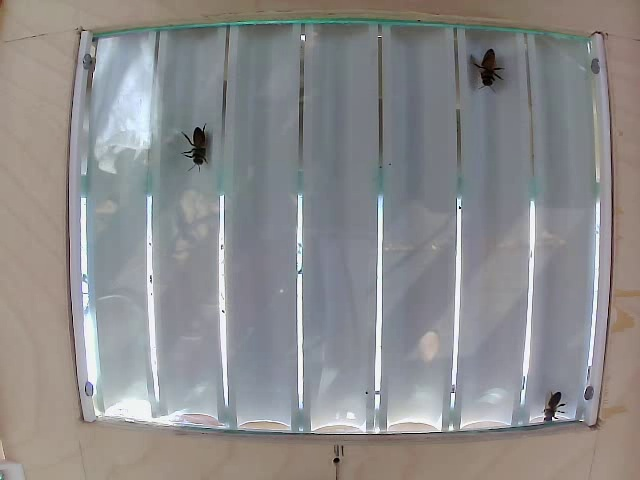bee: (182, 121, 222, 172), (466, 45, 503, 96), (535, 379, 567, 423)
